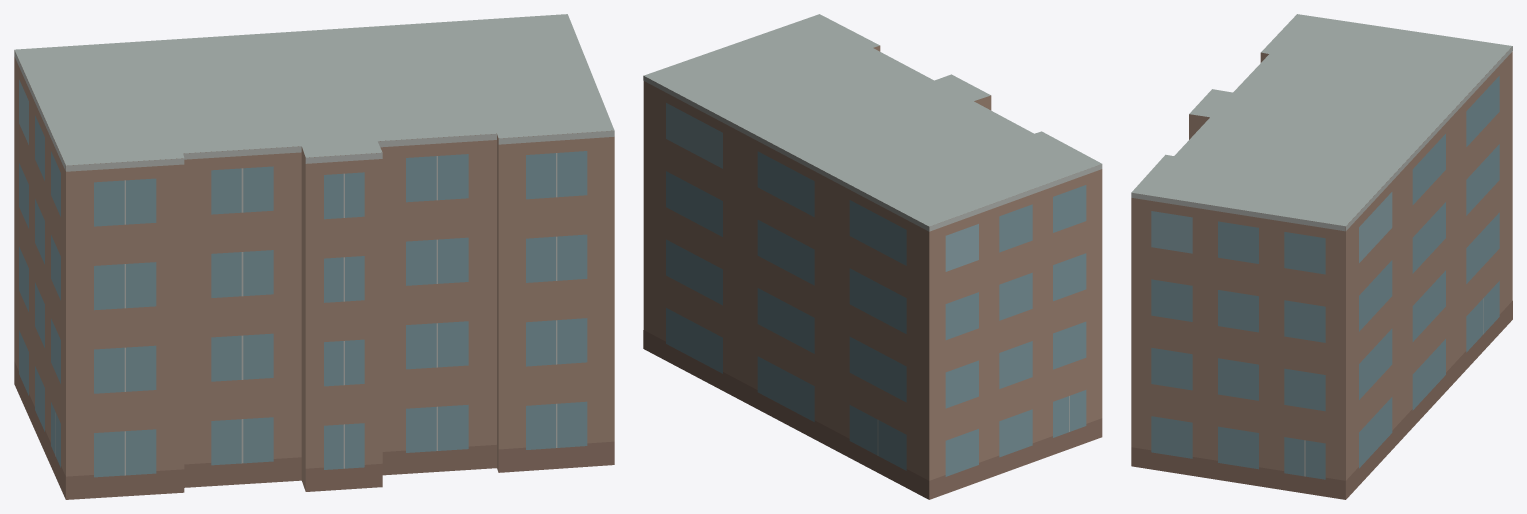
Rendered from survey-upis-32679175.glb.
The picture shows the model from 3 angles, left to right: view 1: azimuth 30°, elevation 25°; view 2: azimuth 150°, elevation 25°; view 3: azimuth 270°, elevation 25°; orthographic projection. The views are drawn at different scales.
Visible parts, largest first — view 1: survey-upis-32679175.tmp; view 2: survey-upis-32679175.tmp; view 3: survey-upis-32679175.tmp.
Boxes of the visible parts, <box> form: survey-upis-32679175.tmp: <box>14,14,614,499</box>; survey-upis-32679175.tmp: <box>643,14,1102,499</box>; survey-upis-32679175.tmp: <box>1131,14,1512,499</box>.
Bounding box in the file's own units: 21.81 × 13.1 × 16.56.
